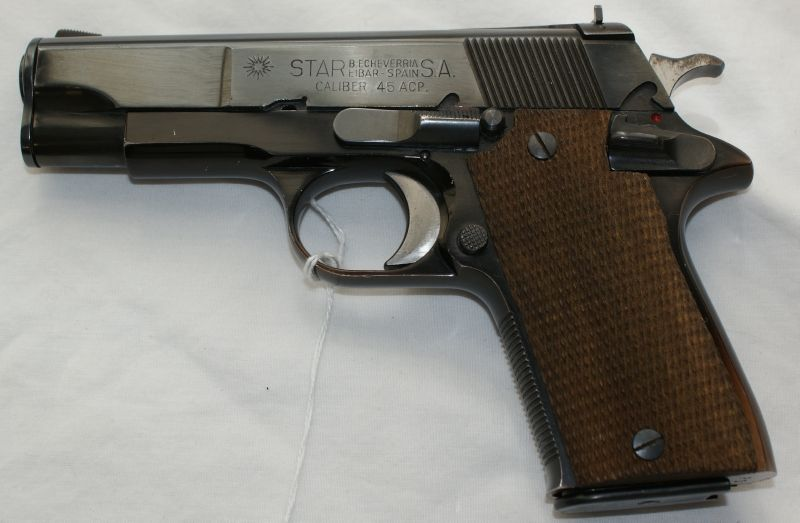Arma Real: (16, 4, 783, 514)
